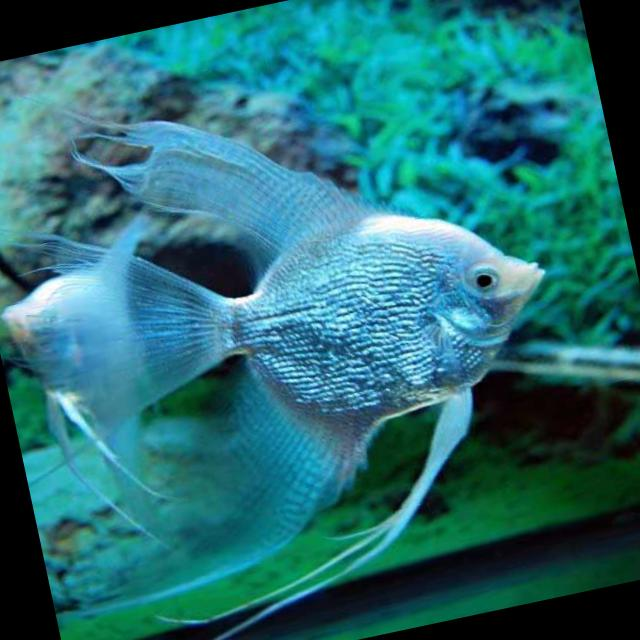AngelFish: (14, 45, 599, 608)
